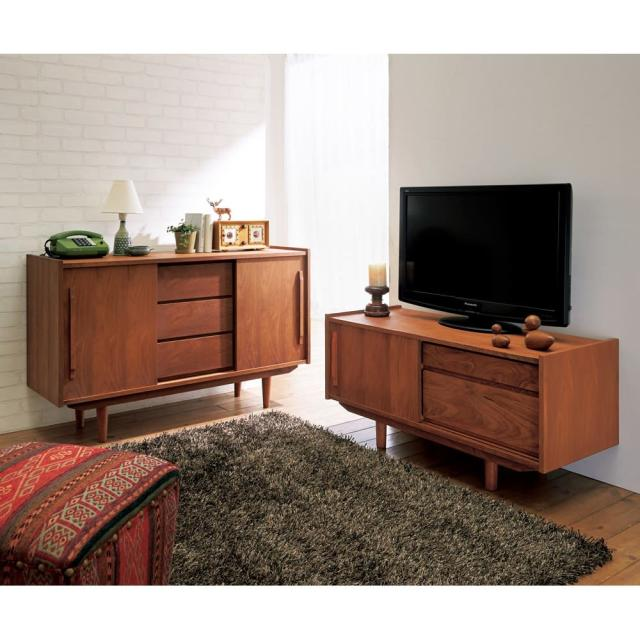vintage shelf: (320, 298, 632, 499), (25, 244, 318, 442)
